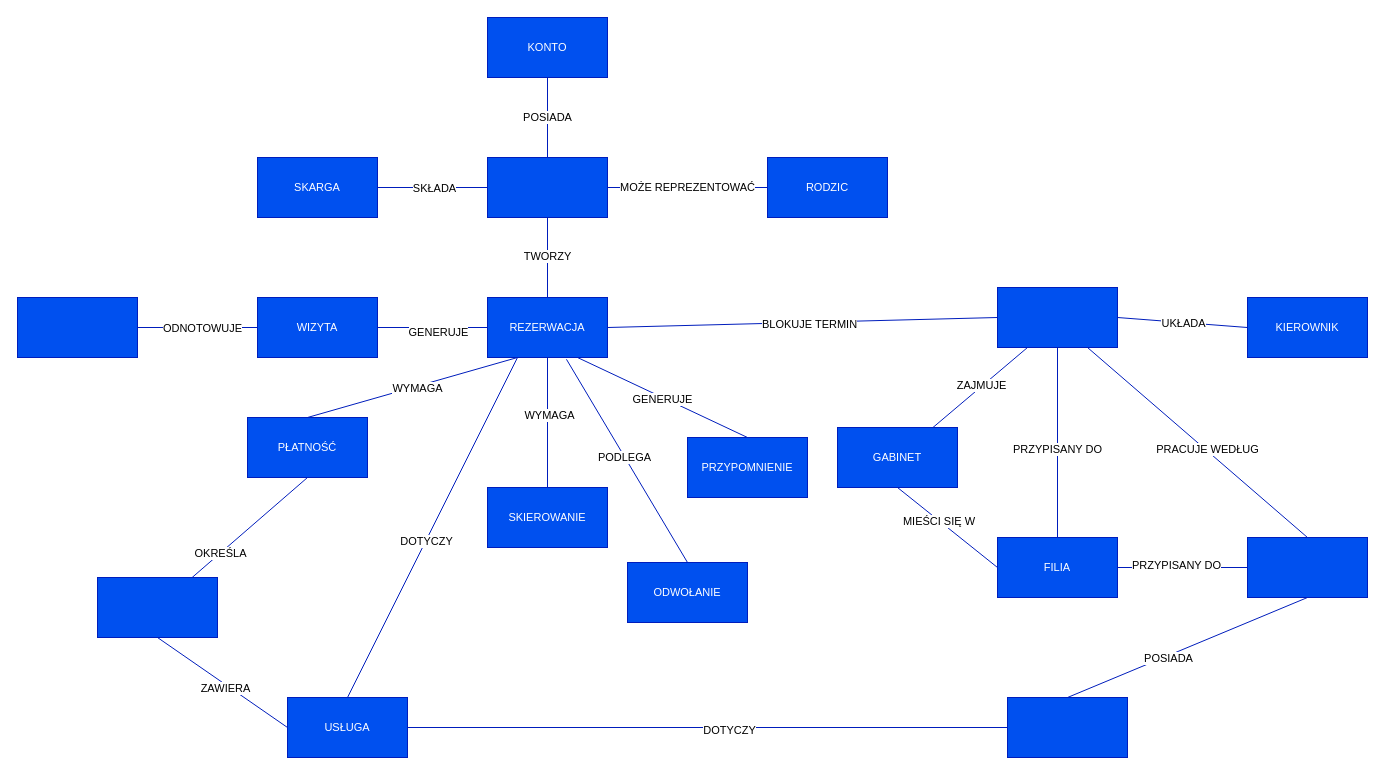
This 1385x775 diagram has some shape labels left out. Here are the shapes that lost their labels. From the top down, the box of each, then its label:
(486, 156, 608, 218): PACJENT
(16, 296, 138, 358): NIEOBECNOŚĆ
(996, 286, 1118, 348): GRAFIK
(1246, 536, 1368, 598): PRACOWNIK
(96, 576, 218, 638): CENNIK
(1006, 696, 1128, 758): SPECJALIZACJA
